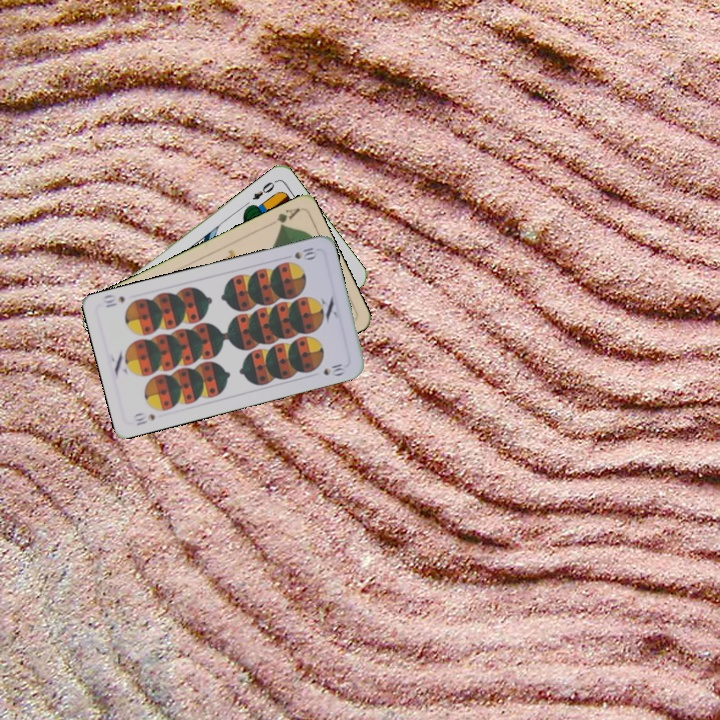EO: (248, 176, 280, 203)
GA: (272, 203, 302, 230)
S10: (290, 243, 320, 263), (129, 409, 158, 428)
